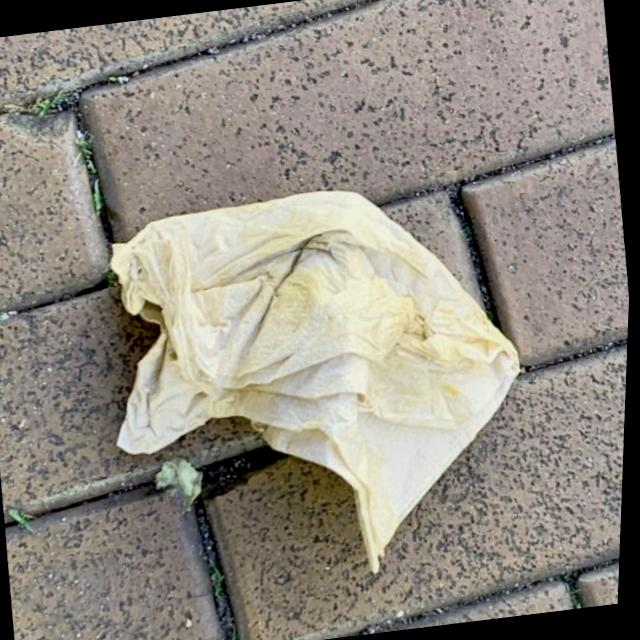Paper: (86, 163, 557, 598)
